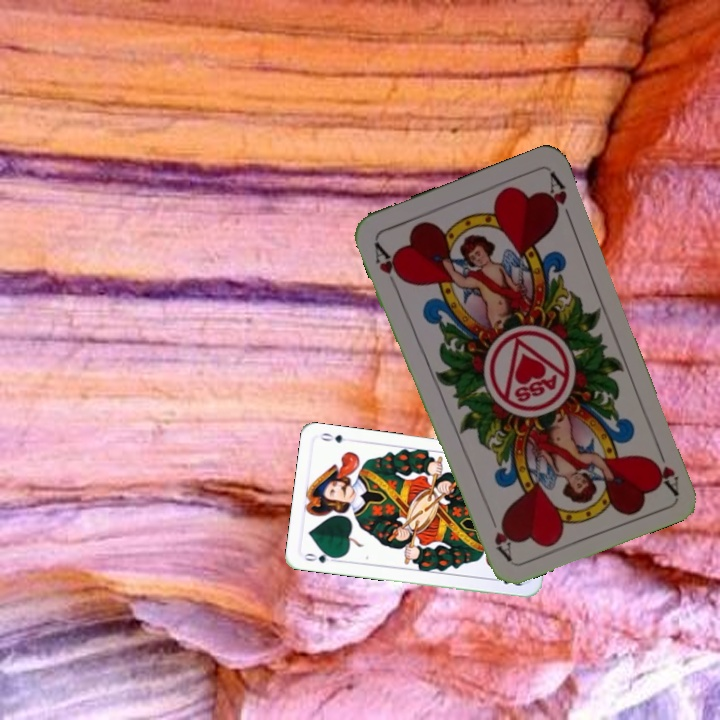GO: (300, 548, 340, 566)
HA: (369, 237, 407, 293), (646, 439, 682, 496)
